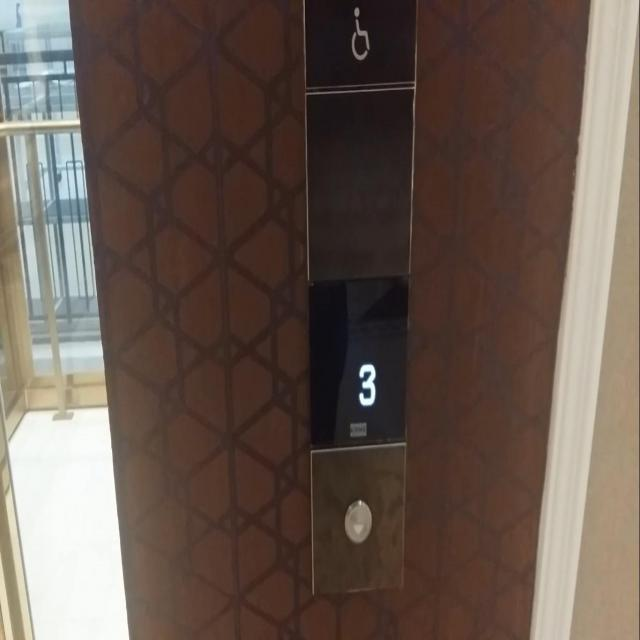CH: (342, 3, 379, 67)
down: (344, 499, 372, 544)
led: (308, 277, 408, 451)
